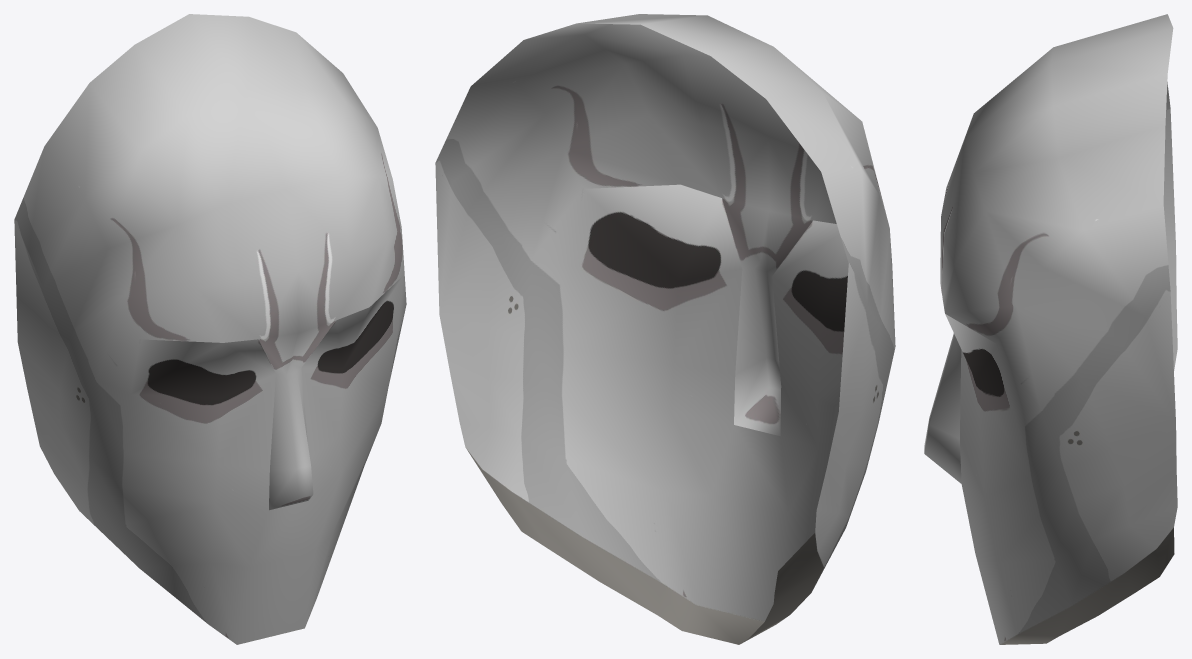
File: Enemy_mask_white1.fbx
The picture shows the model from 3 angles, left to right: view 1: azimuth 30°, elevation 25°; view 2: azimuth 150°, elevation 25°; view 3: azimuth 270°, elevation 25°; orthographic projection. The views are drawn at different scales.
Visible parts, largest first — view 1: White_mask1; view 2: White_mask1; view 3: White_mask1.
Part boxes in pixels (x1,y1,x2,y2): White_mask1: (14, 14, 406, 644); White_mask1: (435, 14, 895, 644); White_mask1: (924, 14, 1177, 644).
Bounding box in the file's own units: 15.34 × 23.57 × 8.98.
Materials: 1 (1 with a texture image).
